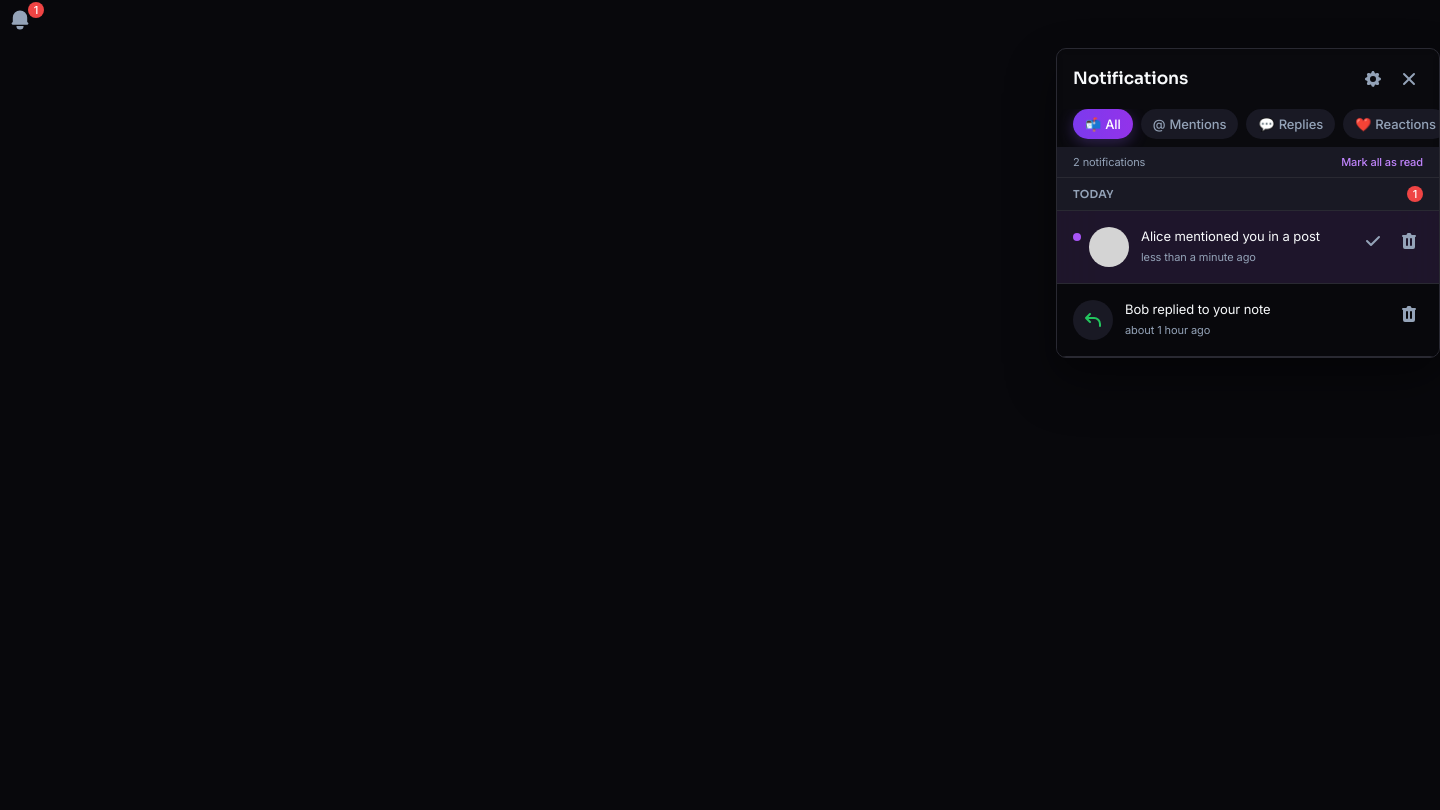
Test: NotificationCenter › Interactions › should filter notifications by type
The width and height of the screenshot is (1440, 810).
// Click on Mentions filter
Click the text "Mentions". click: (1198, 124)
box: [1169,115,1226,133]
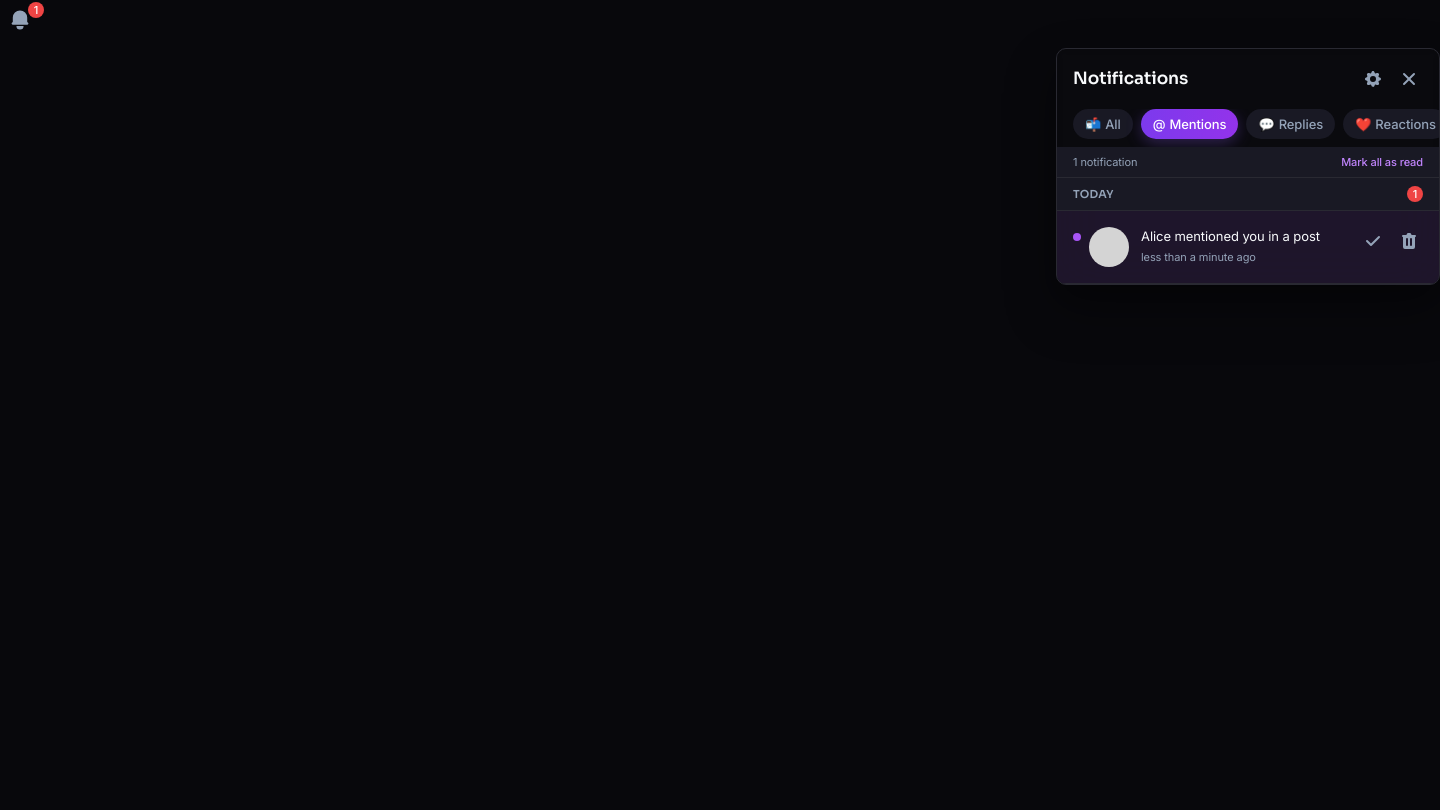
Check: the text "Alice mentioned you in a post" is shown, box [1141,228,1347,246]
Check: the button "Bob replied to your note" is gone
